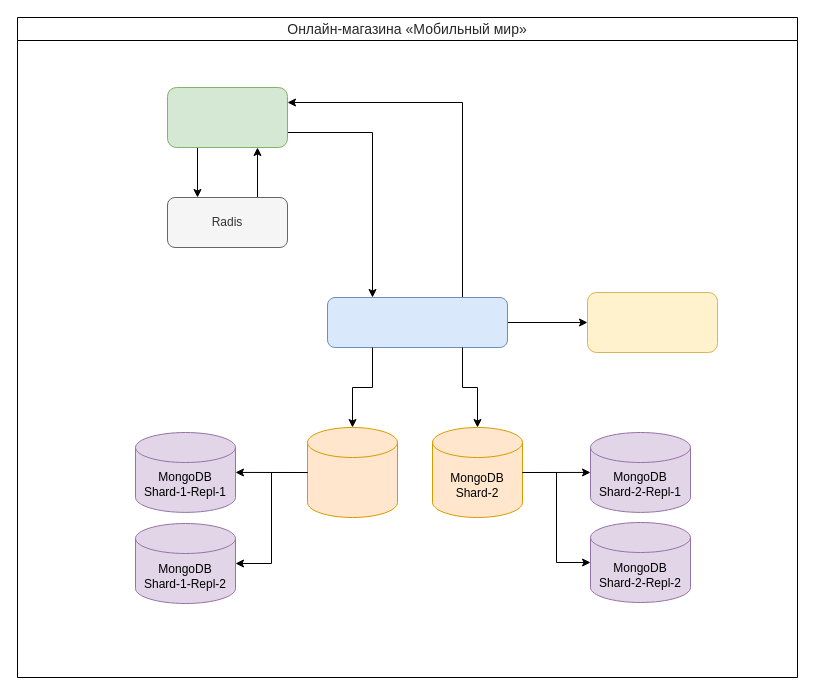
This 815x695 diagram has some shape labels left out. The shapes that lost their labels are listed below. From the top down, each one's centre as x and y in pixels, then its label:
point 227,117: pymongo-api
point 417,322: Mongo Router
point 652,322: Mongo Config-Server
point 352,472: MongoDB Shard-1
